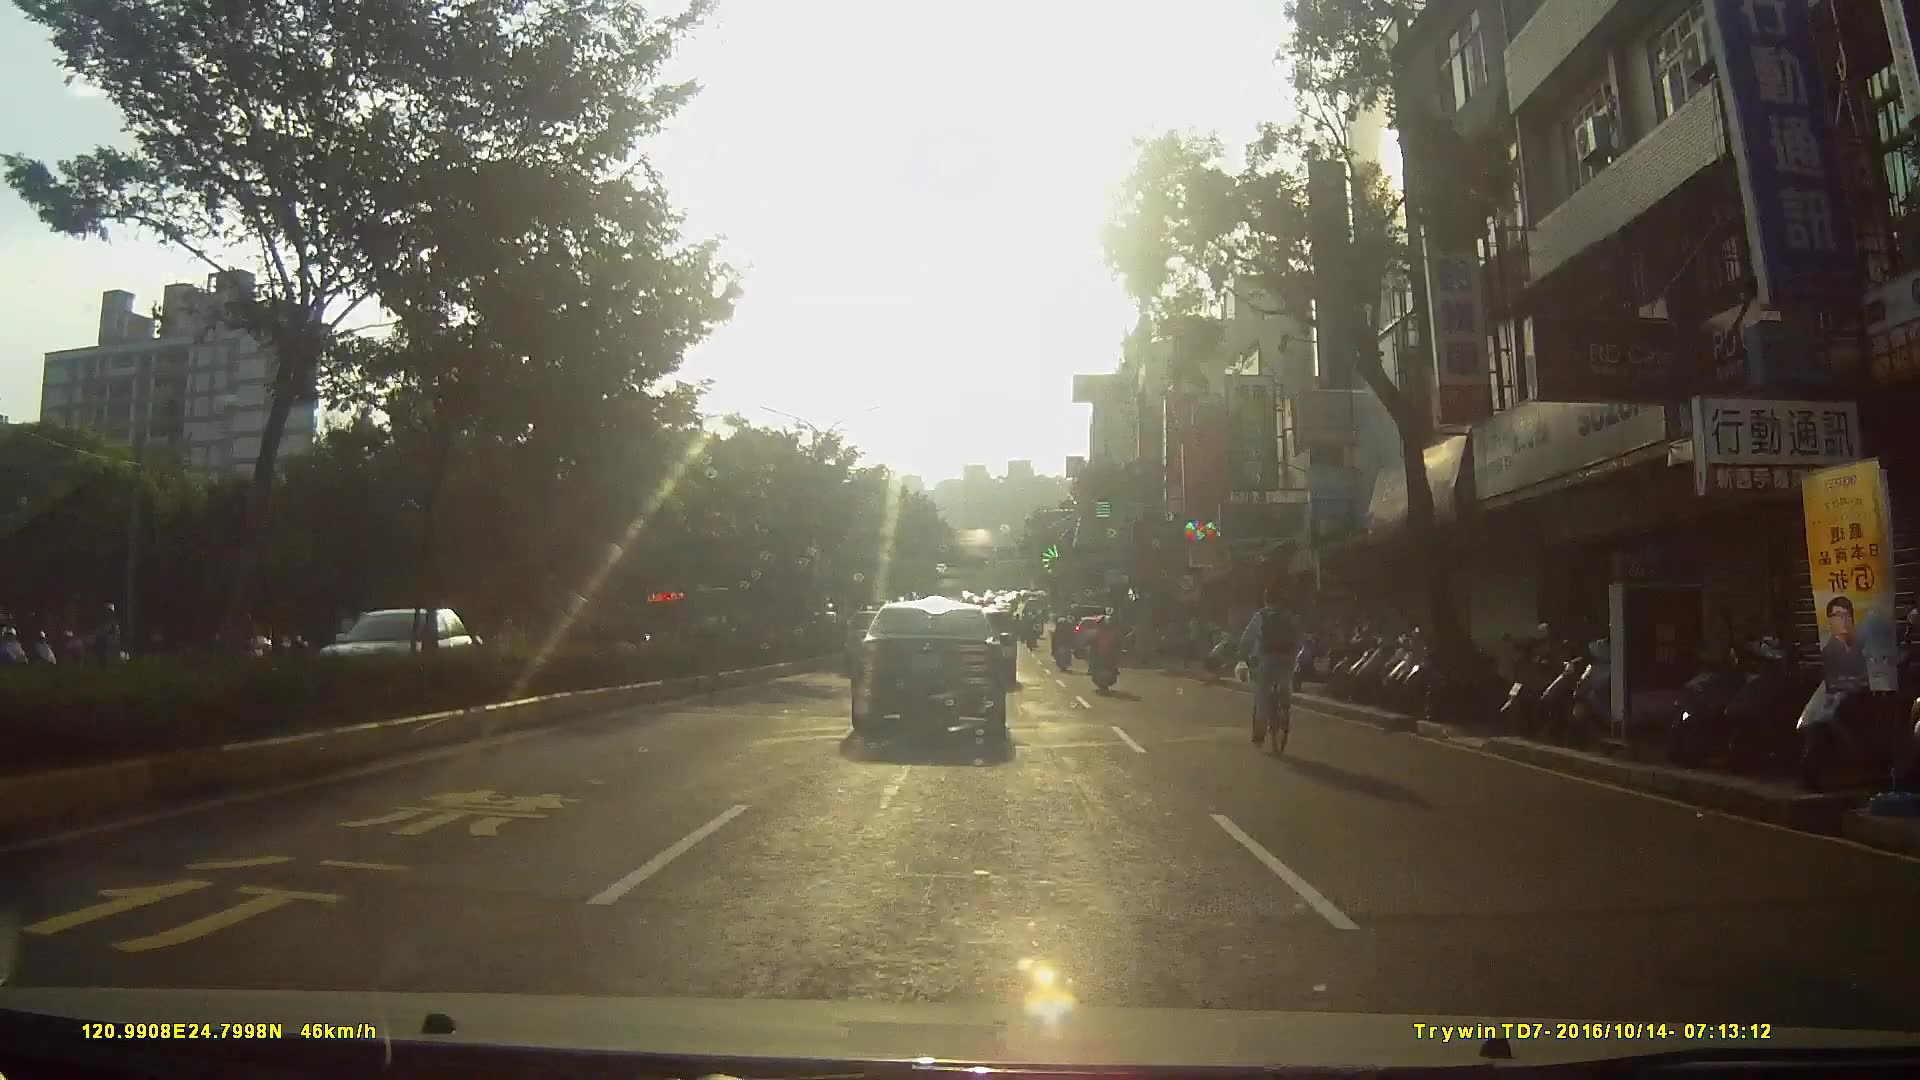rider: (1235, 585, 1311, 758), (66, 599, 139, 699), (1087, 617, 1121, 697), (1049, 617, 1076, 674)
vehicle: (852, 605, 1025, 756), (316, 604, 487, 700)
